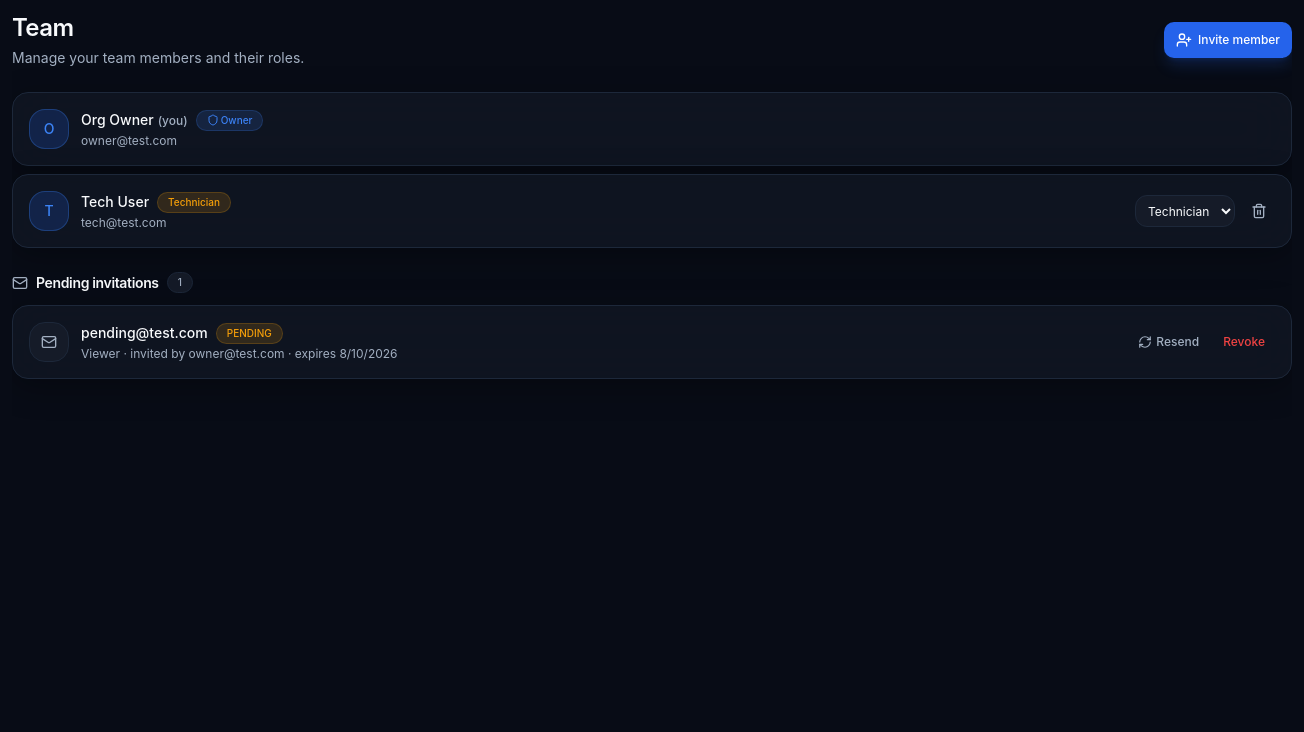
Test: Team Page Contract › invitations use the V1 org invitation endpoints › resend regenerates the invitation via the resend endpoint
Click the button "Resend". click: x=1169, y=342
box: [1128, 328, 1209, 356]
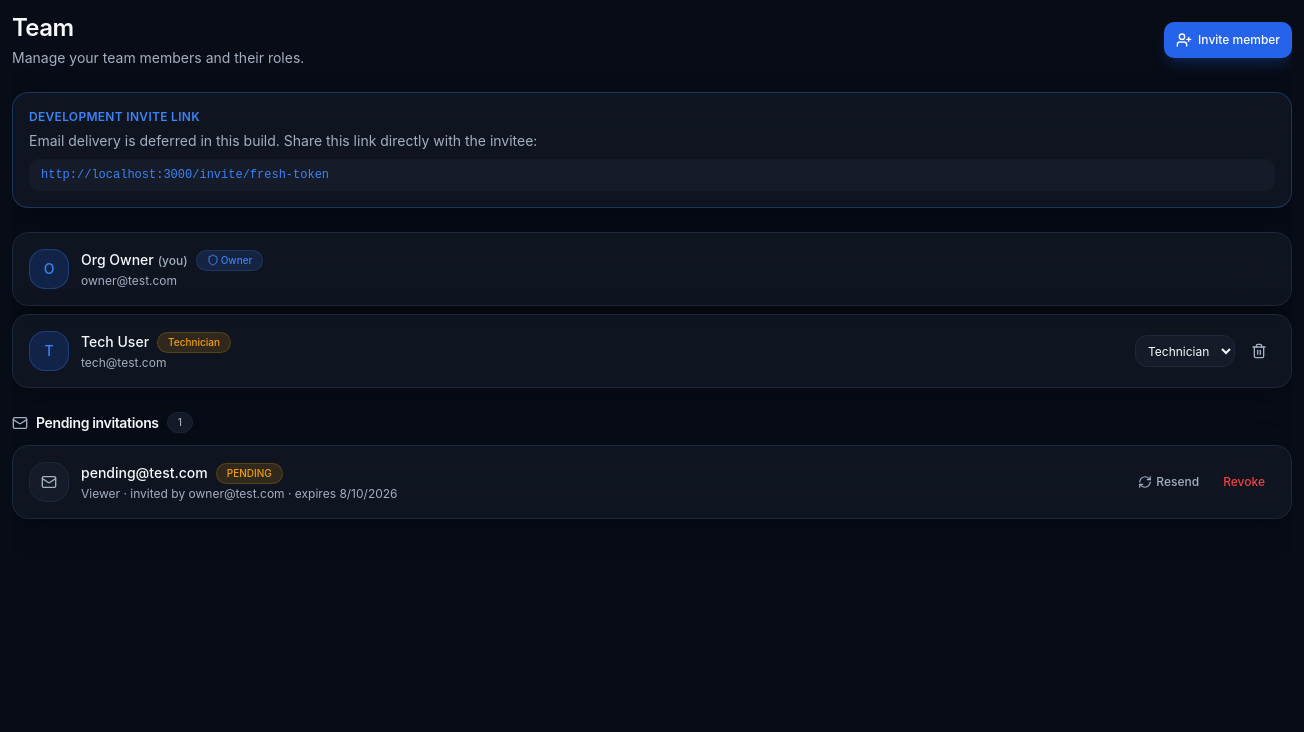
Expected: the text "http://localhost:3000/invite/fresh-token" is shown, [29, 159, 1275, 191]
